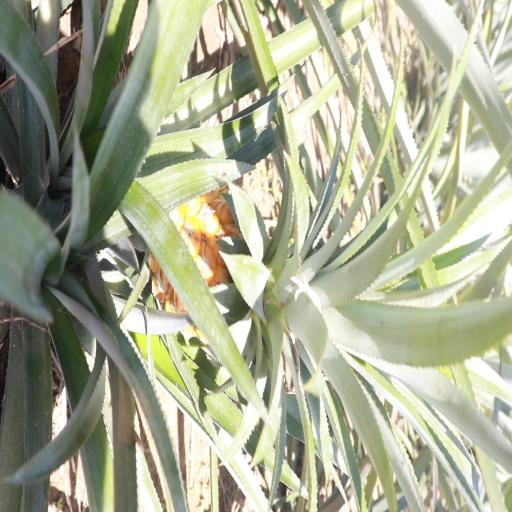Pineapple - v8 v1: (158, 182, 367, 368)
